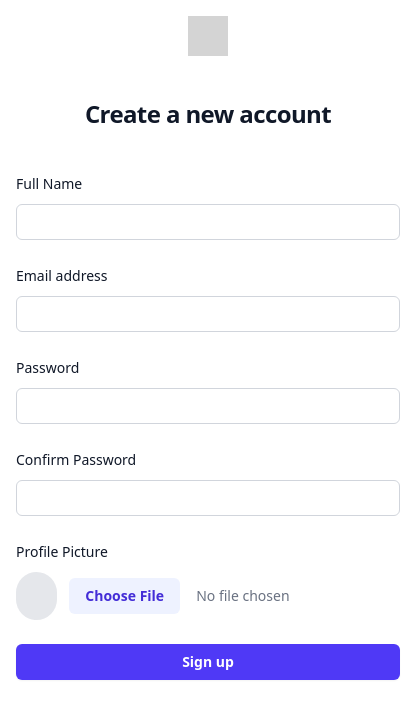
SignUp Component › shows error when passwords do not match
Fill in the form with mismatched passwords
Type "Test User" into the field labelled "Full Name". click: (208, 222)
box: [16,204,400,240]
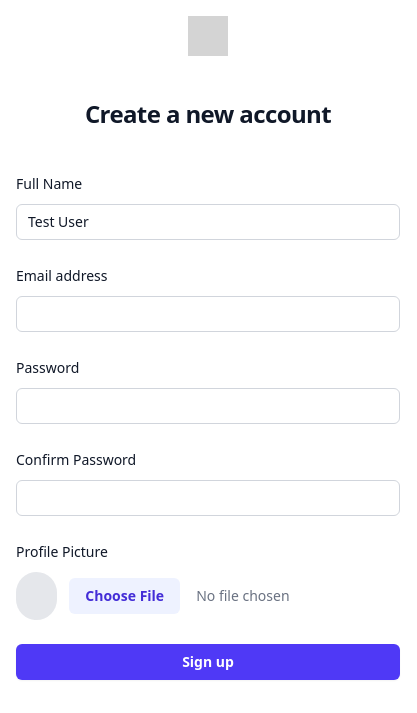
Type "test@example.com" into the field labelled "Email address". click: (208, 314)
box: [16,296,400,332]
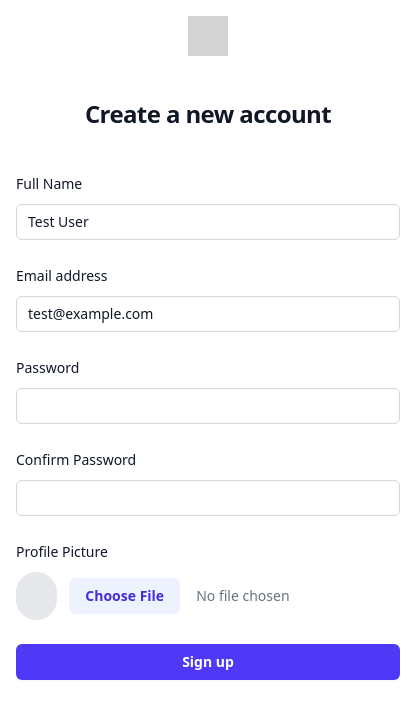
Type "password123" into the password field labelled "Password". click: (208, 406)
box: [16,388,400,424]
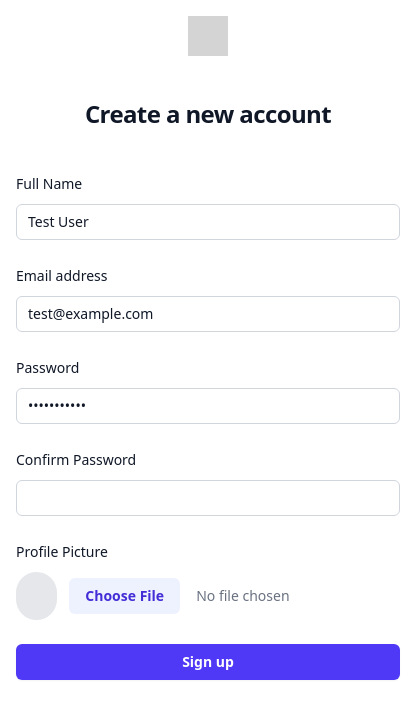
Type "password456" into the password field labelled "Confirm Password". click: (208, 498)
box: [16,480,400,516]
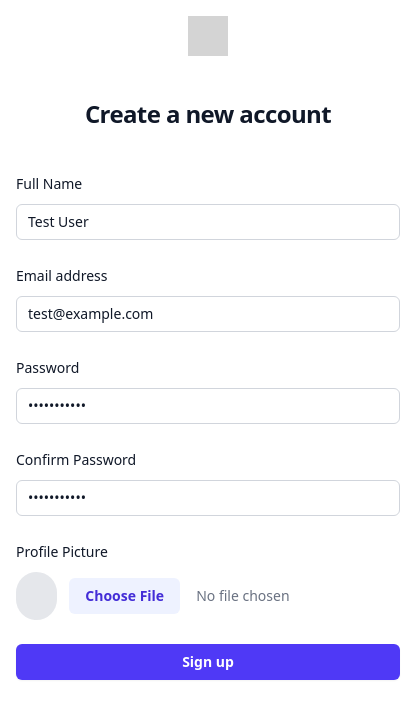
Submit the form
Click the button "Sign up". click: (208, 662)
box: [16,644,400,680]
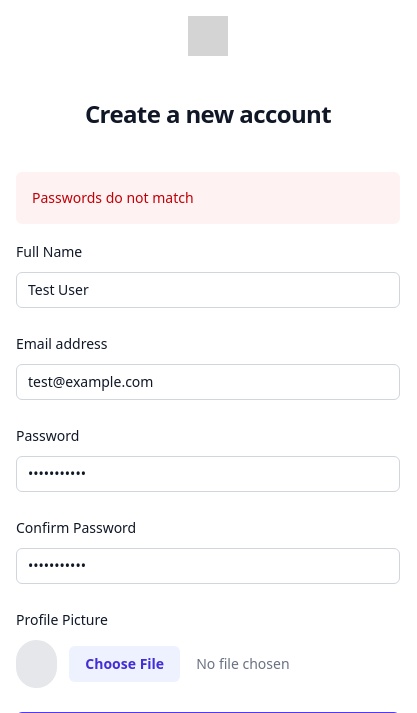
Check: the text "Passwords do not match" is shown, box [32,188,194,207]
